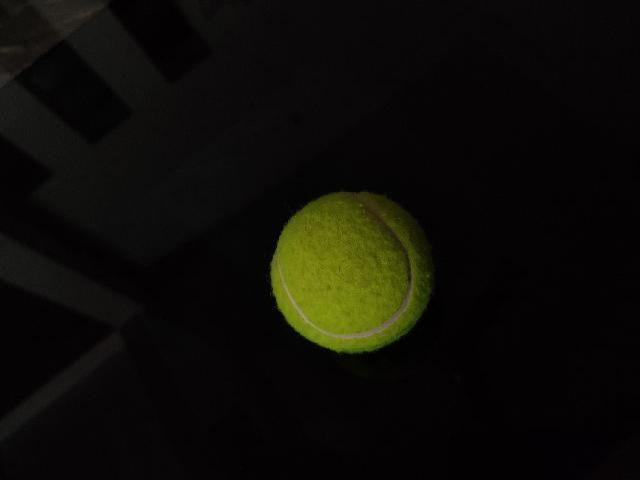tennis-ball: (269, 191, 433, 352)
